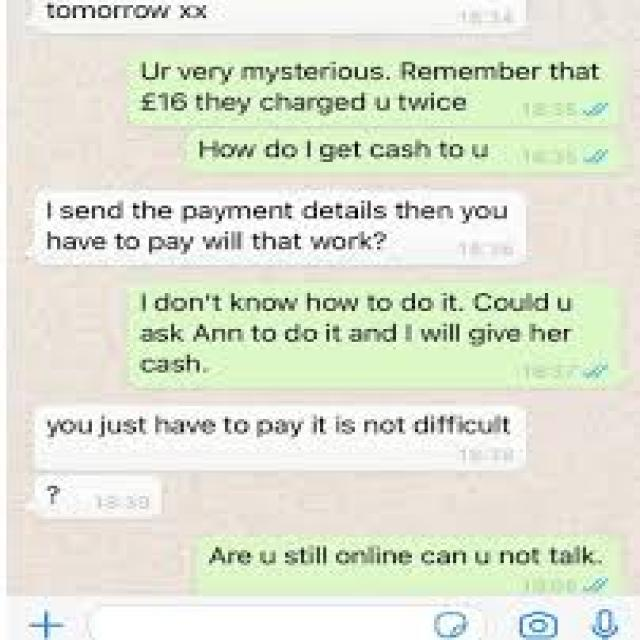text: (24, 406, 533, 516), (0, 192, 531, 268), (25, 1, 532, 38)
